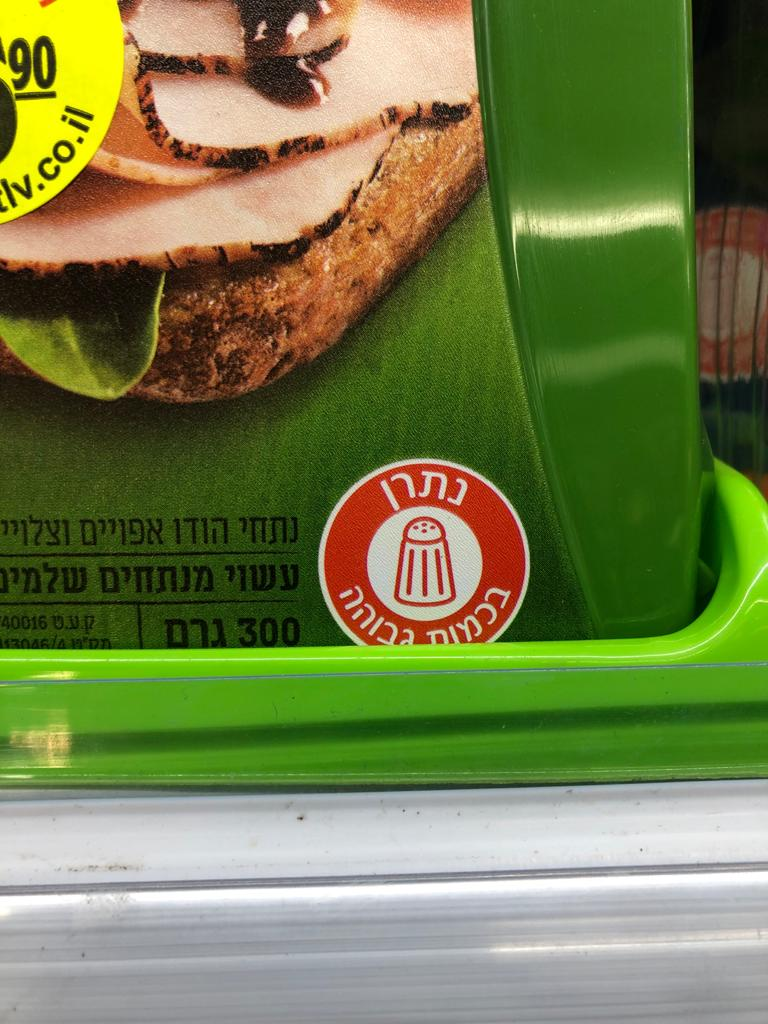salt: (316, 456, 531, 646)
